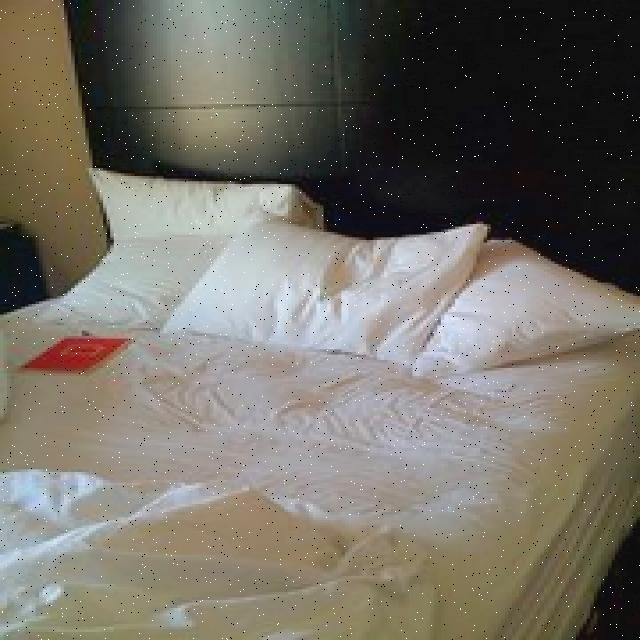bed: (0, 94, 631, 640)
